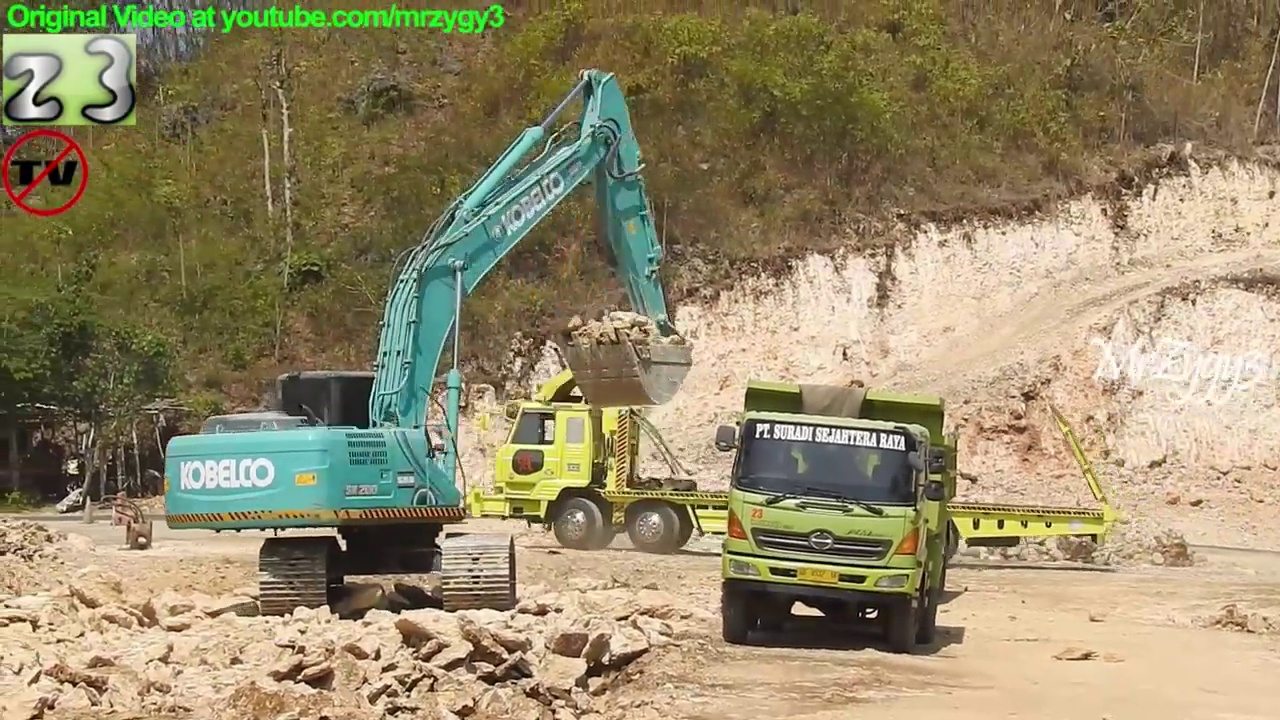excavator: (157, 64, 698, 621), (467, 361, 1119, 567)
truck: (713, 374, 971, 654)
